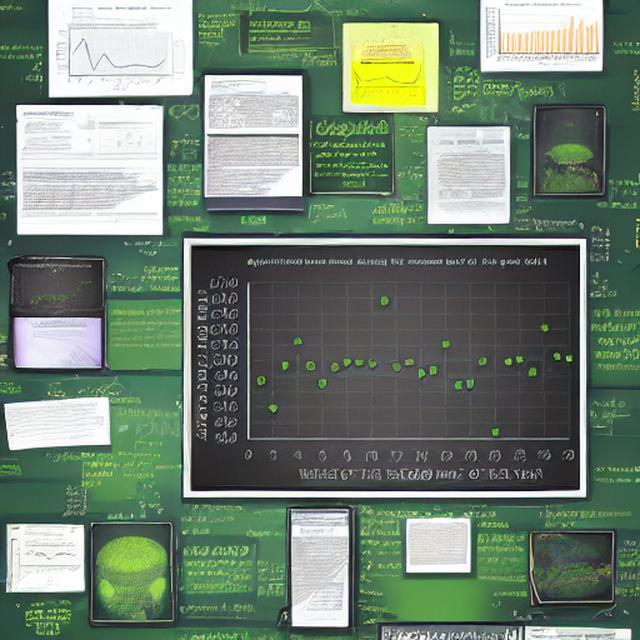Graph: (192, 251, 580, 487), (52, 20, 171, 92), (483, 0, 601, 67), (8, 262, 103, 318), (351, 61, 425, 105), (12, 542, 81, 584)
